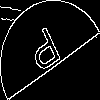P: (25, 25, 67, 82)
